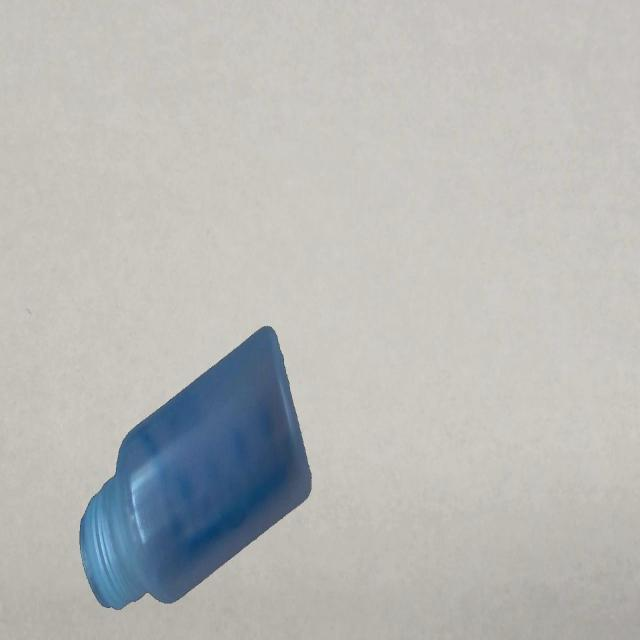bottle: (78, 322, 312, 620)
